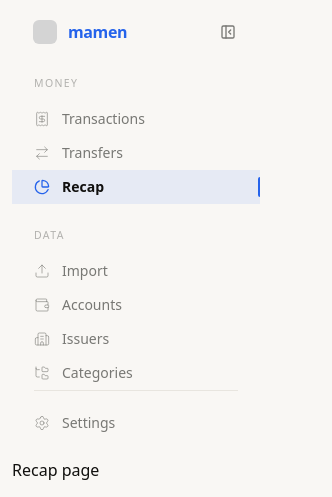
Test: AppSidebar, the brand row › navigates client-side, like the rows below it
What coordinates should you click on to do the following:
click the link "mamen"
I would click on:
 (80, 32)
Its box is [32, 19, 127, 45].
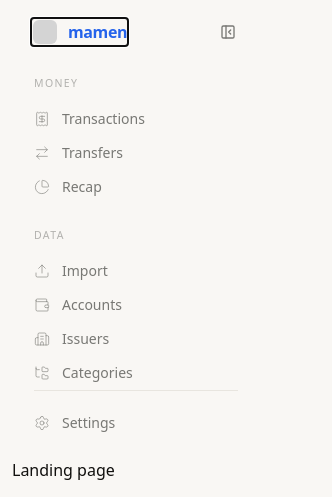
Check: the text "Landing page" is shown, box [12, 458, 115, 480]
